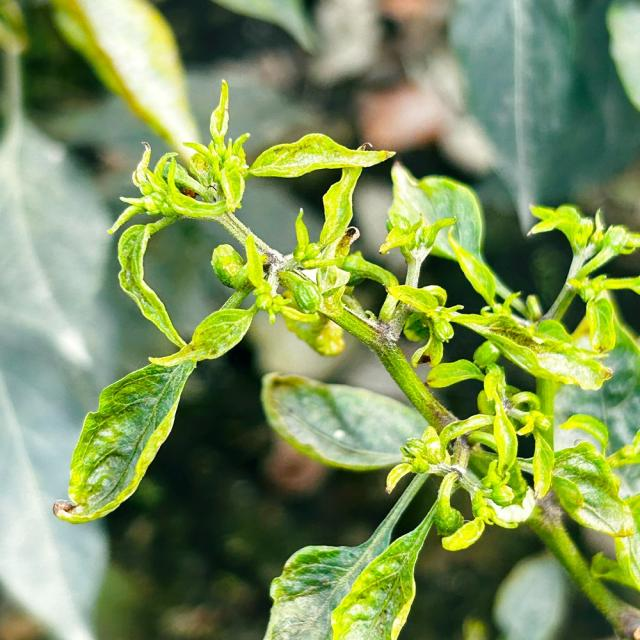Chilli_Leaf_Curl: (53, 78, 638, 638), (52, 357, 196, 524), (259, 371, 430, 472)
